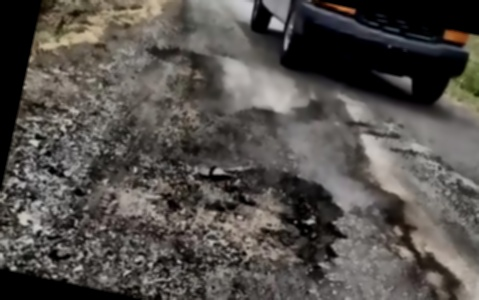pothole: (169, 148, 362, 285)
